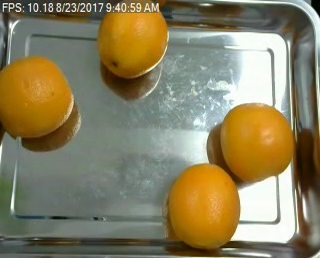Orange: (167, 163, 239, 248), (220, 103, 296, 183), (1, 56, 74, 137), (97, 1, 168, 77)
